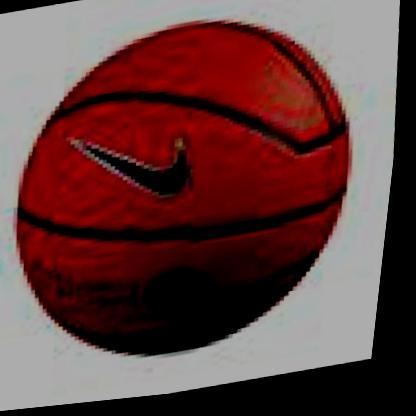basketball: (0, 0, 382, 385)
